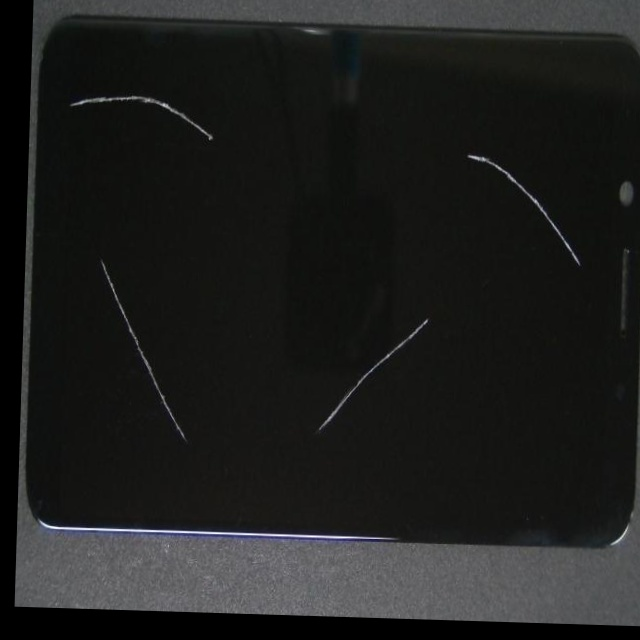scratch: (287, 71, 588, 518), (119, 80, 316, 246), (158, 319, 240, 571)
